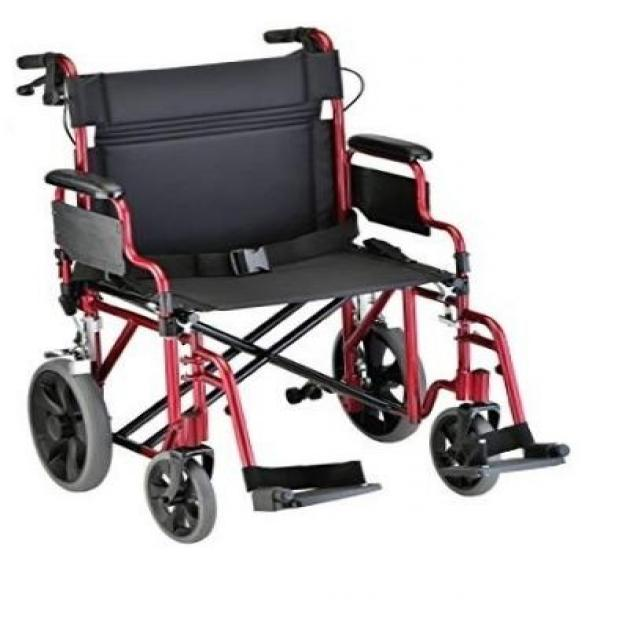wheelchair: (17, 22, 606, 542)
